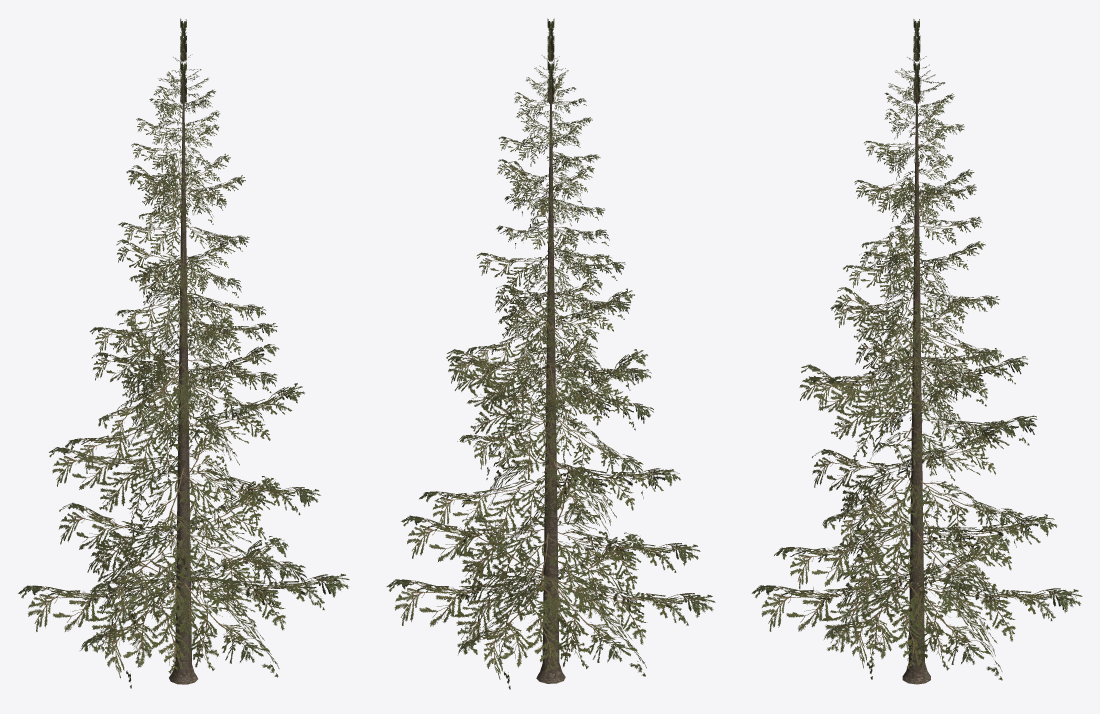
File: tree_conifer2.obj
The picture shows the model from 3 angles, left to right: view 1: azimuth 30°, elevation 25°; view 2: azimuth 150°, elevation 25°; view 3: azimuth 270°, elevation 25°; orthographic projection.
Parts seen in each view (by area): view 1: Fir:Branches group, group Fir:Trunk; view 2: Fir:Branches group, group Fir:Trunk; view 3: Fir:Branches group, group Fir:Trunk.
Boxes of the visible parts, x1,y1,x2,y2 form: Fir:Branches group: [18, 18, 349, 688]; group Fir:Trunk: [169, 77, 197, 684]; Fir:Branches group: [386, 18, 715, 689]; group Fir:Trunk: [536, 77, 565, 683]; Fir:Branches group: [751, 19, 1082, 680]; group Fir:Trunk: [902, 77, 930, 684].
Size of the model in its own units: 1.73 by 4.04 by 1.87.
